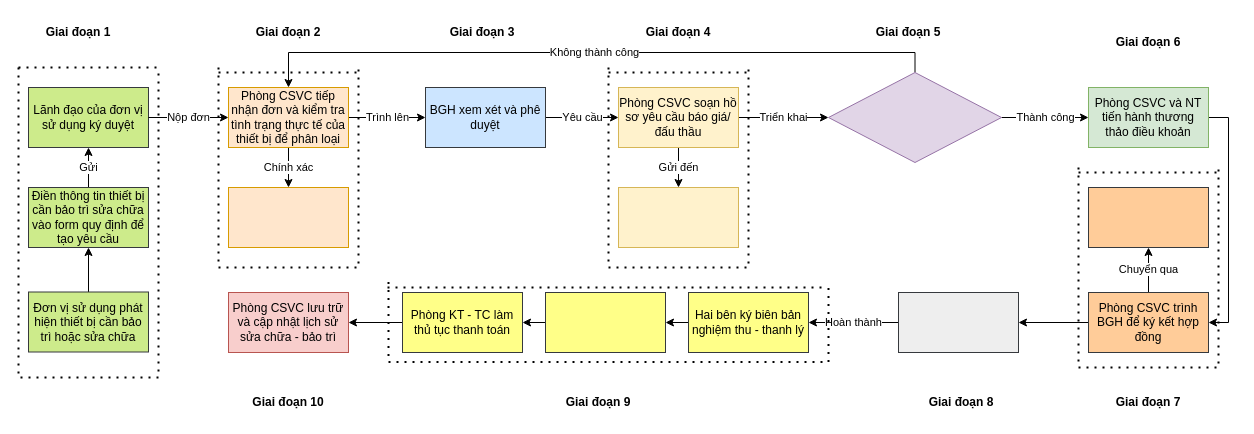
Image size: 1254x434. Some labels were removed from this diagram. The shapes that lost their labels are listed below. From the top down, each one's box as (x1, y1, x2, y2) in pixels, then its label:
(828, 72, 1002, 162): Phòng CSVC phối hợp NT tổ chức đấu thầu
(228, 186, 348, 248): Ký xét duyệt đơn yêu cầu của ĐVSD
(618, 186, 738, 248): Các nhà cung cấp/đơn vị sửa chữa
(1088, 186, 1208, 248): Phòng KH - TC lưu lại hợp đồng
(544, 292, 666, 352): Phòng CSVC đối chiếu hồ sơ
(898, 292, 1018, 352): NT tiến hành sửa chữa/bảo trì theo hợp đồng đã soạn
